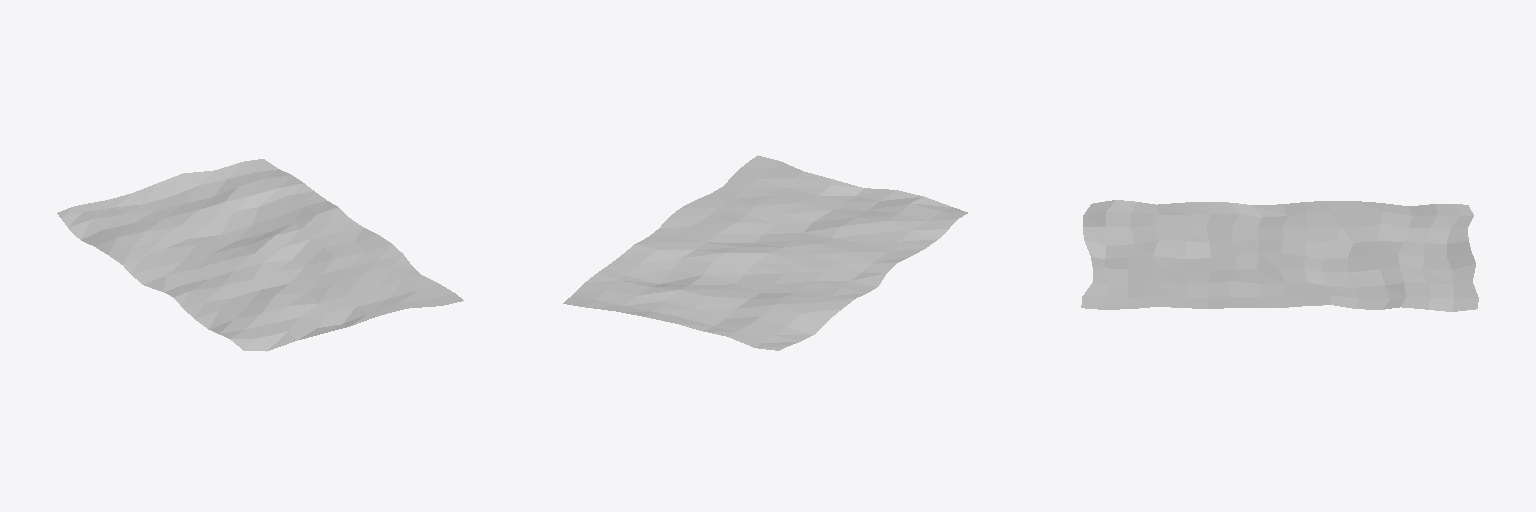
The model's file is uploads_files_2304171_paper1obj.obj.
3 views of the same model, side by side, from view 1: azimuth 30°, elevation 25°; view 2: azimuth 150°, elevation 25°; view 3: azimuth 270°, elevation 25° (orthographic).
Size of the model in its own units: 2.58 by 0.1016 by 3.96.